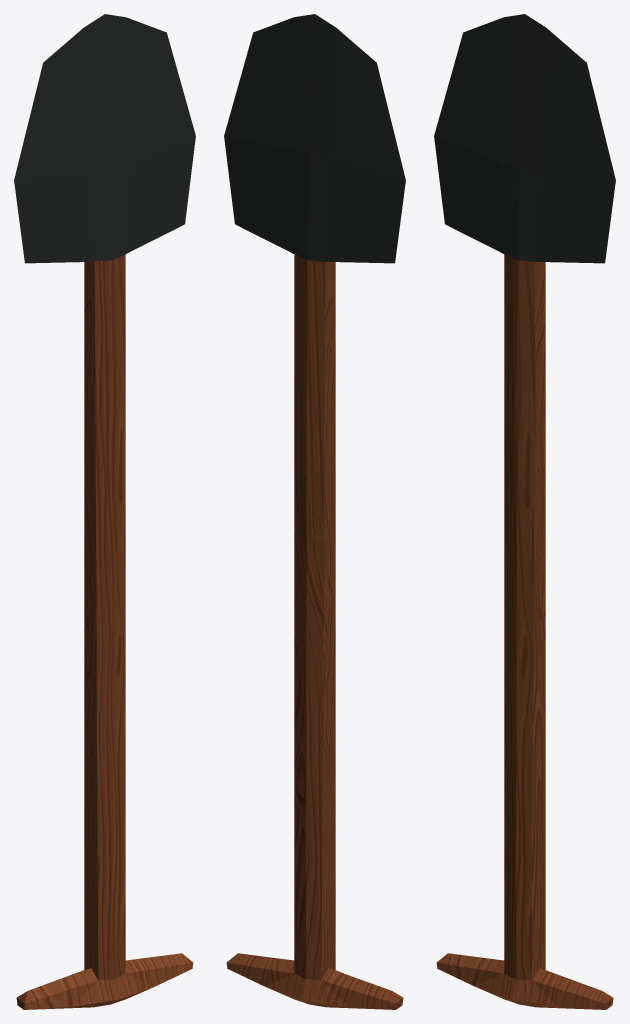
The model's file is ARC0710061.fbx.
3 views of the same model, side by side, from view 1: azimuth 30°, elevation 25°; view 2: azimuth 150°, elevation 25°; view 3: azimuth 330°, elevation 25° (orthographic).
Parts seen in each view (by area): view 1: smARC0710061; view 2: smARC0710061; view 3: smARC0710061.
Part boxes in pixels (<box>): smARC0710061: <box>14,14,195,1009</box>; smARC0710061: <box>224,14,405,1009</box>; smARC0710061: <box>434,14,615,1009</box>.
Bounding box in the file's own units: 36.61 × 190 × 9.01.
Materials: 1 (1 with a texture image).
